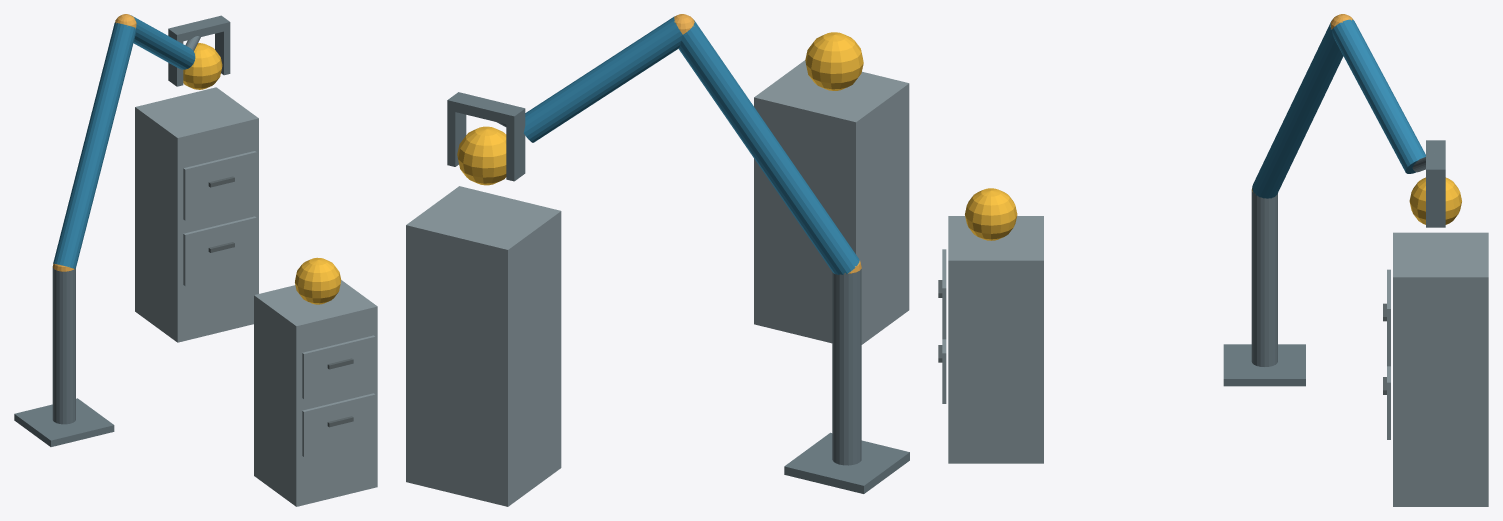
3 renders of one model, left to right at view 1: azimuth 30°, elevation 25°; view 2: azimuth 150°, elevation 25°; view 3: azimuth 270°, elevation 25°, orthographic. The views are drawn at different scales.
Parts seen in each view (by area): view 1: cabinet_2 body, cabinet_1 body, moving link 1, cabinet_2 drawer front, cabinet_2 drawer front.001, fixed post, cabinet_1 drawer front, cabinet_1 drawer front.001, pedestal, released ball_1, moving link 2, ball ball_2 (+2 smaller); view 2: cabinet_2 body, cabinet_1 body, moving link 1, fixed post, moving link 2, pedestal, released ball_1, ball ball_2, gripper bridge, gripper finger -1, gripper finger 1; view 3: cabinet_2 body, cabinet_1 body, moving link 1, fixed post, moving link 2, pedestal, released ball_1, ball ball_2, gripper finger 1, gripper bridge.
Boxes of the visible parts, x1,y1,x2,y2 form: cabinet_2 body: (135,87,258,342); cabinet_1 body: (254,280,377,506); moving link 1: (53,22,136,268); cabinet_2 drawer front: (183,216,256,285); cabinet_2 drawer front.001: (183,151,256,220); fixed post: (52,266,75,424); cabinet_1 drawer front: (302,393,375,456); cabinet_1 drawer front.001: (302,335,375,399); pedestal: (14,398,114,446); released ball_1: (295,257,341,304); moving link 2: (131,15,195,69); ball ball_2: (183,43,222,89); cabinet_2 body: (406,186,561,506); cabinet_1 body: (754,60,909,344); moving link 1: (678,20,859,274); fixed post: (832,269,861,465); moving link 2: (523,16,682,142); pedestal: (784,432,909,493); released ball_1: (805,32,863,90); ball ball_2: (457,126,506,185); gripper bridge: (447,92,525,126); gripper finger -1: (506,119,525,181); gripper finger 1: (447,110,466,166); cabinet_2 body: (1393,232,1488,506); cabinet_1 body: (948,216,1043,463); moving link 1: (1252,20,1343,198); fixed post: (1251,190,1277,366); moving link 2: (1332,19,1425,173); pedestal: (1223,344,1305,386); released ball_1: (965,188,1017,240); ball ball_2: (1409,177,1461,224); gripper finger 1: (1426,178,1445,227); gripper bridge: (1426,140,1445,178).
Bounding box in the file's own units: 1.12 × 1.36 × 1.67.
